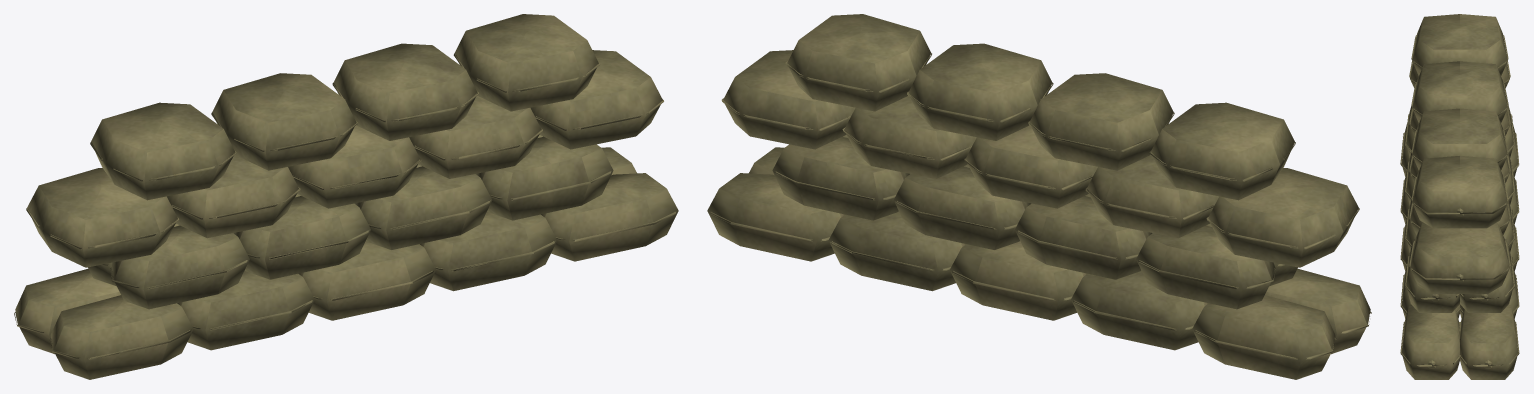
Rendered from sandbag_wall.glb.
3 views of the same model, side by side, from view 1: azimuth 30°, elevation 25°; view 2: azimuth 150°, elevation 25°; view 3: azimuth 270°, elevation 25° (orthographic). The views are drawn at different scales.
Parts seen in each view (by area): view 1: sandbag_wall_premium; view 2: sandbag_wall_premium; view 3: sandbag_wall_premium.
Part boxes in pixels (box(x1,y1,x2,y2)): sandbag_wall_premium: box(14, 14, 678, 379); sandbag_wall_premium: box(707, 14, 1371, 379); sandbag_wall_premium: box(1400, 14, 1519, 379).
Bounding box in the file's own units: 3.25 × 1.08 × 0.685.
Materials: 1 (1 with a texture image).
